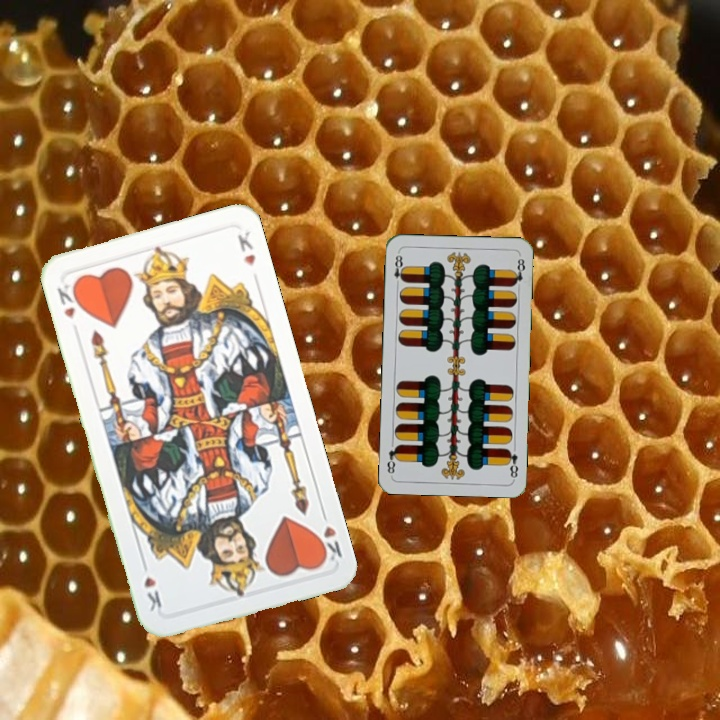E8: (390, 249, 407, 289), (503, 445, 521, 481)
HK: (312, 506, 345, 566), (53, 279, 84, 322)
